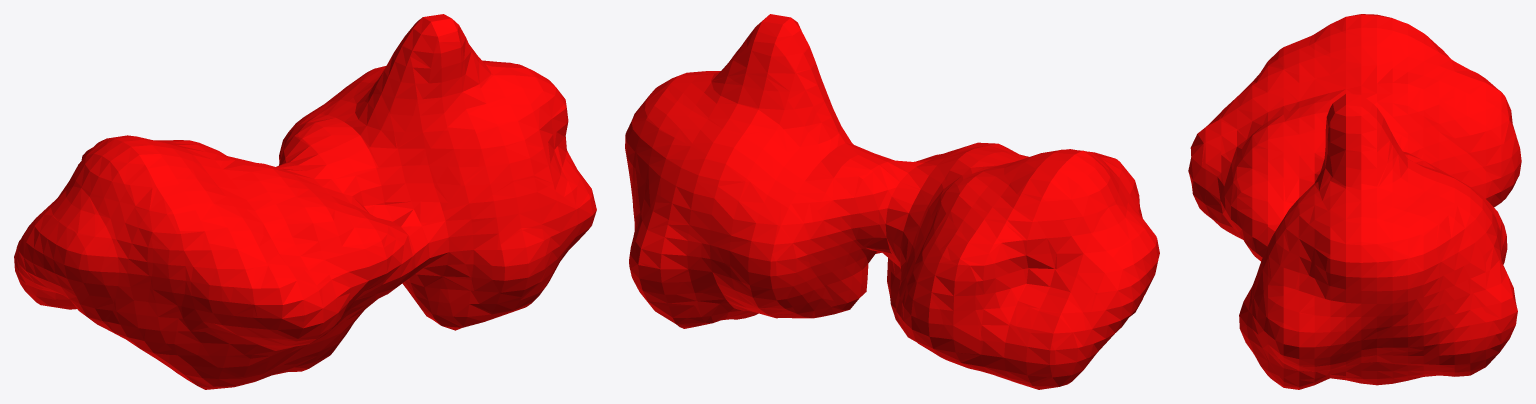
Rendered from rimP_coarse.dae.
3 renders of one model, left to right at view 1: azimuth 30°, elevation 25°; view 2: azimuth 150°, elevation 25°; view 3: azimuth 270°, elevation 25°, orthographic. The views are drawn at different scales.
Parts seen in each view (by area): view 1: rimP; view 2: rimP; view 3: rimP.
Part boxes in pixels (x1,y1,x2,y2): rimP: [14, 14, 596, 389]; rimP: [625, 14, 1159, 389]; rimP: [1188, 14, 1521, 389].
Size of the model in its own units: 67.1 by 37.91 by 39.36.
